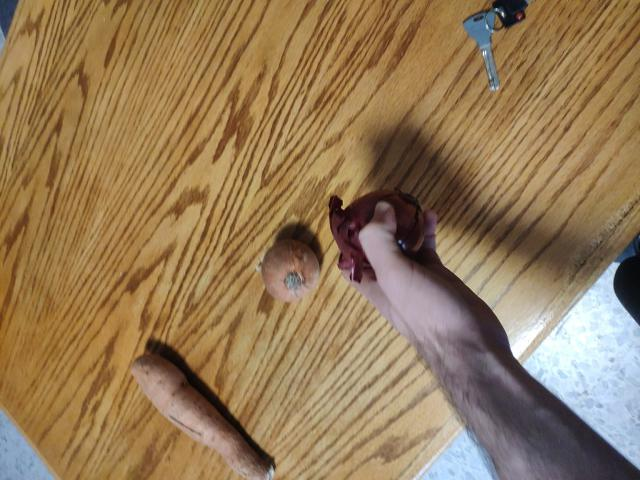onion: (252, 238, 329, 298)
